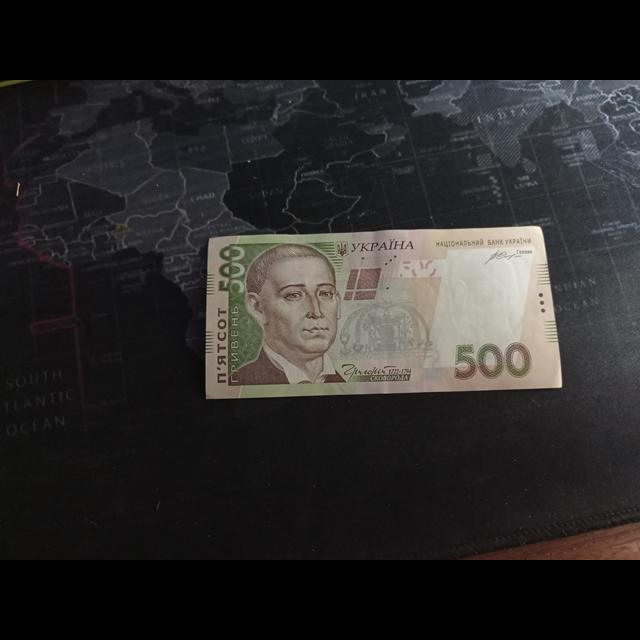500uah: (202, 235, 564, 393)
